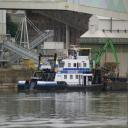tugboat: (18, 44, 106, 95)
